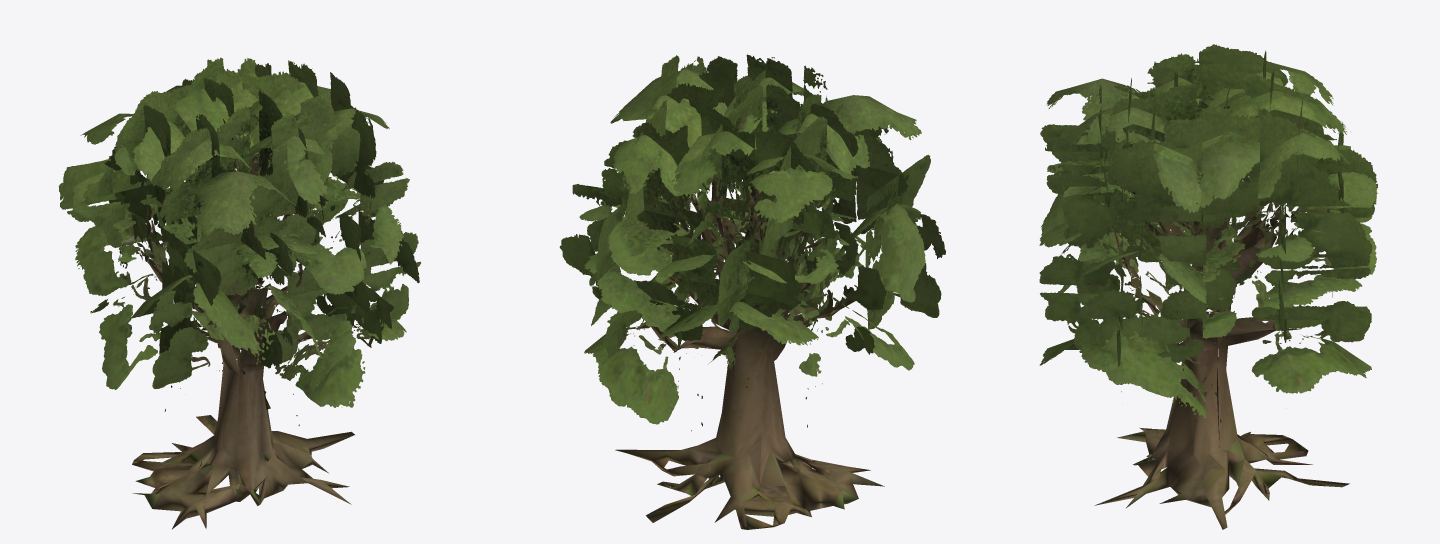
Rendered from tree-1505-mid.glb.
3 renders of one model, left to right at view 1: azimuth 30°, elevation 25°; view 2: azimuth 150°, elevation 25°; view 3: azimuth 270°, elevation 25°, orthographic. The views are drawn at different scales.
Parts seen in each view (by area): view 1: Foliage, Wood; view 2: Foliage, Wood; view 3: Foliage, Wood.
Part boxes in pixels (bbox=[...]): Foliage: bbox=[58, 57, 420, 425]; Wood: bbox=[129, 153, 354, 529]; Foliage: bbox=[559, 54, 945, 431]; Wood: bbox=[615, 174, 884, 529]; Foliage: bbox=[1039, 44, 1377, 432]; Wood: bbox=[1094, 179, 1349, 529].
Bounding box in the file's own units: 10.83 × 12.54 × 10.61.
Materials: 2 (2 with a texture image).
